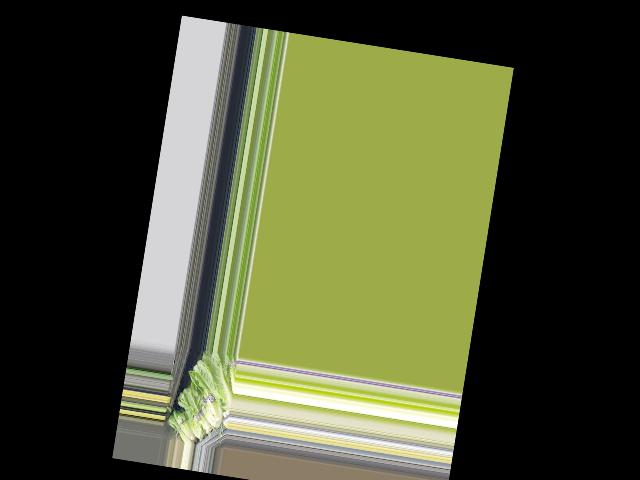lettuce: (190, 351, 236, 409)
